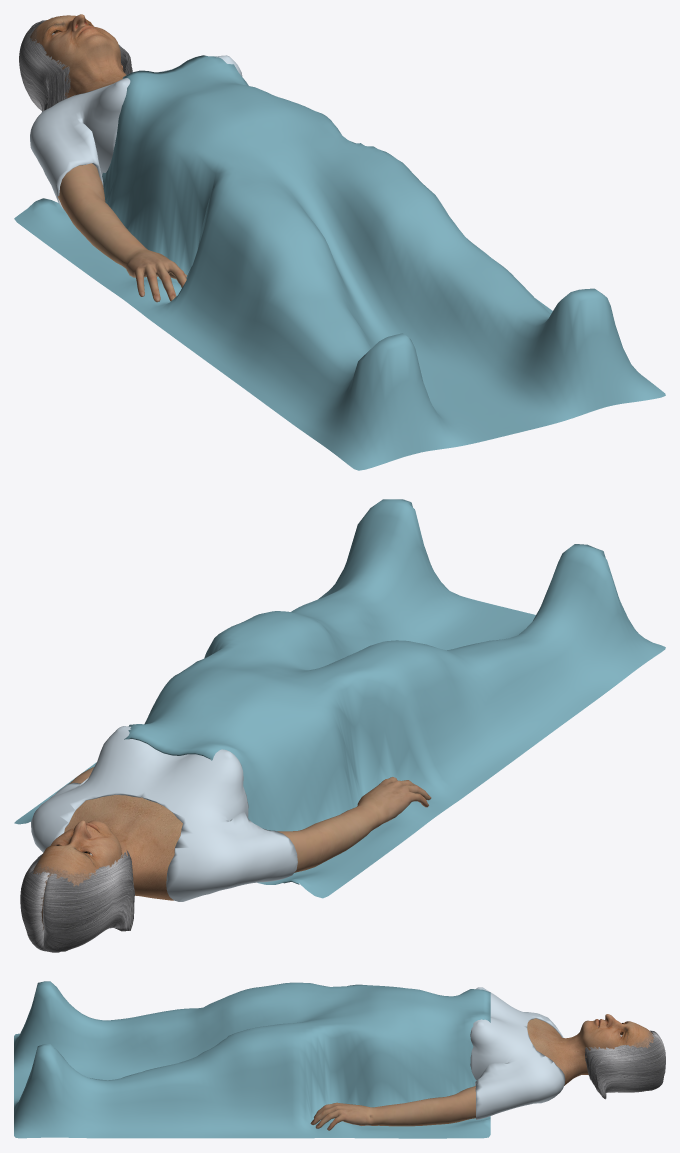
3 views of the same model, one above another, from view 1: azimuth 30°, elevation 25°; view 2: azimuth 150°, elevation 25°; view 3: azimuth 270°, elevation 25° (orthographic). The views are drawn at different scales.
Parts seen in each view (by area): view 1: sheet, gown, arms, body, hair; view 2: sheet, gown, body, hair, arms; view 3: sheet, gown, body, arms, hair.
Boxes of the visible parts, <box> form: sheet: <box>14,55,665,470</box>; gown: <box>30,55,242,208</box>; arms: <box>58,163,186,302</box>; body: <box>30,14,126,98</box>; hair: <box>19,17,132,111</box>; sheet: <box>14,499,665,898</box>; gown: <box>31,726,297,901</box>; body: <box>33,795,182,930</box>; hair: <box>20,850,134,952</box>; arms: <box>69,767,431,872</box>; sheet: <box>14,981,490,1138</box>; gown: <box>470,987,565,1119</box>; body: <box>527,1014,654,1085</box>; arms: <box>310,1086,475,1130</box>; hair: <box>585,1030,665,1099</box>.
Bounding box in the file's own units: 0.6377 × 0.2542 × 1.68.
8 materials, 6 textured.
